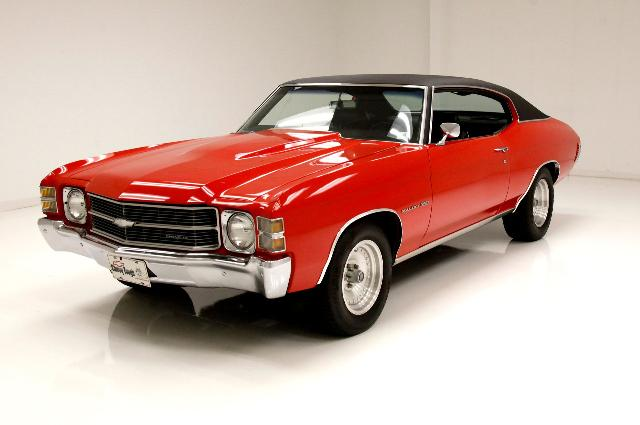chevelle-1972: (38, 74, 583, 336)
